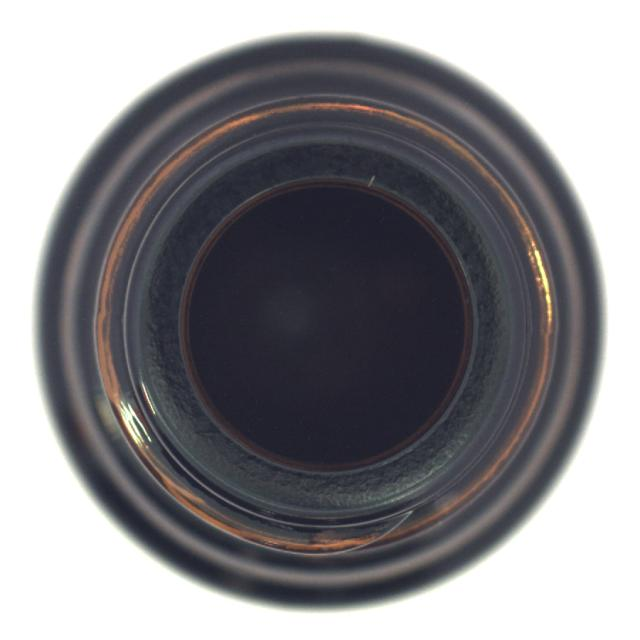bottle-good: (33, 32, 595, 608)
